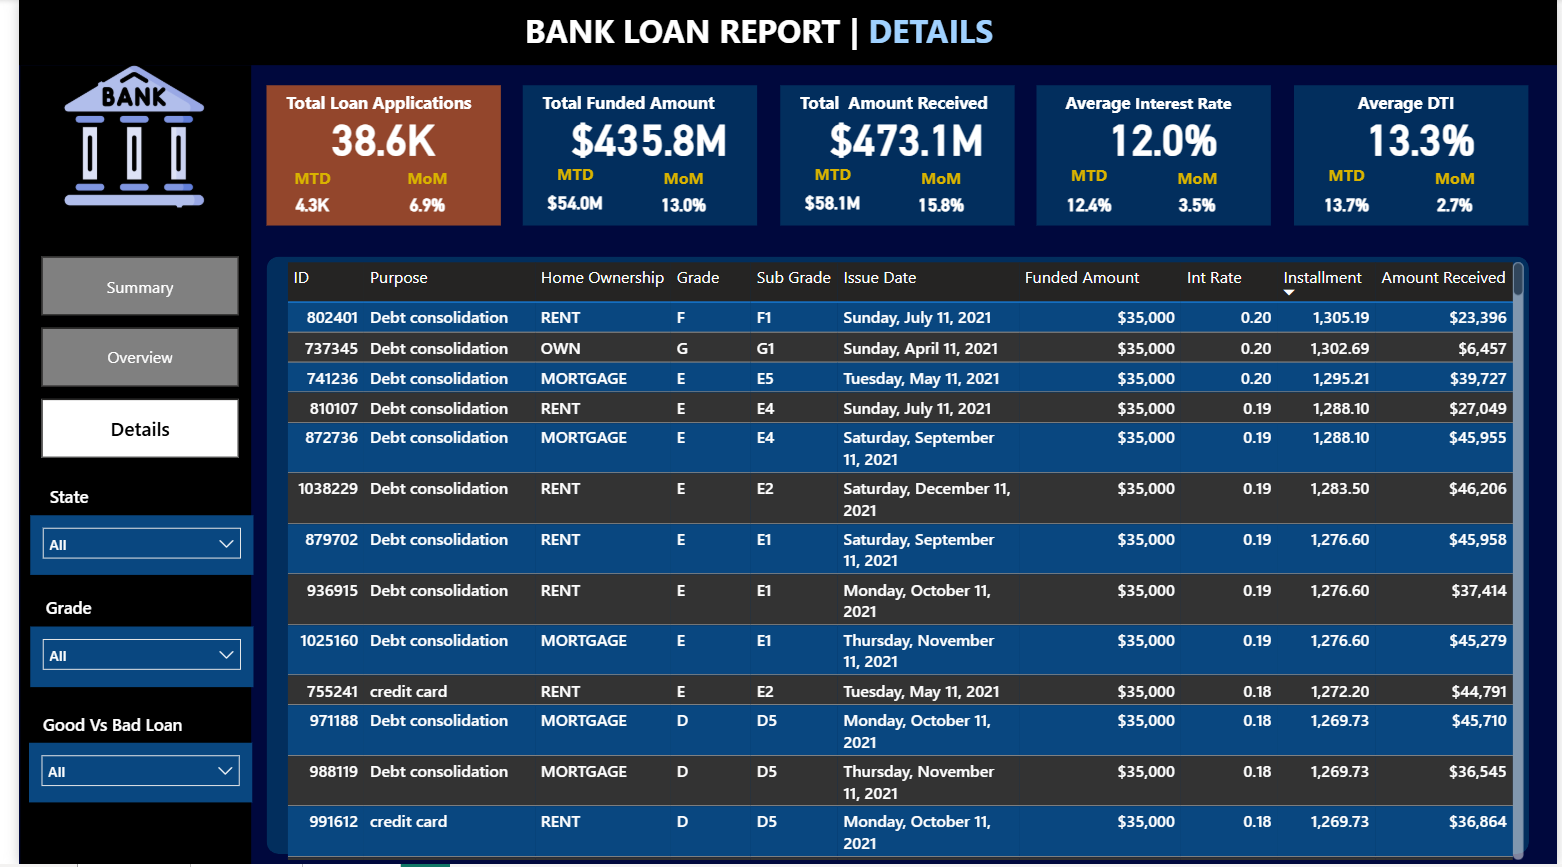

The page's visual inventory and layout, read from the dashboard file:
{"tool":"powerbi","page":{"name":"Details","canvas":[1280,720],"ordinal":2},"visuals":[{"type":"shape","box":[205.8,71.4,194.9,116.6],"z":0,"group":"g1"},{"type":"shape","box":[419.2,71.4,194.9,116.6],"z":0,"group":"g2"},{"type":"shape","box":[632.6,71.4,194.9,116.6],"z":0,"group":"g3"},{"type":"shape","box":[846,71.9,194.9,116.6],"z":0,"group":"g4"},{"type":"shape","box":[1060.1,71.9,194.9,116.6],"z":0,"group":"g5"},{"type":"shape","box":[205.8,214.1,1049.7,496.7],"z":0},{"type":"shape","box":[0,0,1280.3,55],"z":1000},{"type":"textbox","box":[216.8,71.4,223.7,32.9],"z":1000,"group":"g1"},{"type":"textbox","box":[430.2,71.4,223.7,32.9],"z":1000,"group":"g2"},{"type":"textbox","box":[643.6,71.4,223.7,32.9],"z":1000,"group":"g3"},{"type":"textbox","box":[827.4,71.4,223.7,32.9],"z":1000,"group":"g4"},{"type":"textbox","box":[1041.5,71.4,223.7,32.9],"z":1000,"group":"g5"},{"type":"shape","box":[1.4,54.9,192.1,665.5],"z":2000},{"type":"card","fields":{"Values":["bank_loan_data.Total Funded Amount"]},"box":[450.1,77.3,148.2,72.7],"z":2000,"group":"g2"},{"type":"card","fields":{"Values":["bank_loan_data.Total Amount Received"]},"box":[663.5,77.3,148.2,72.7],"z":2000,"group":"g3"},{"type":"card","fields":{"Values":["bank_loan_data.Average Interest Rate"]},"box":[876.9,77.8,148.2,72.7],"z":2000,"group":"g4"},{"type":"card","fields":{"Values":["bank_loan_data.Avg DTI"]},"box":[1091,77.8,148.2,72.7],"z":2000,"group":"g5"},{"type":"card","fields":{"Values":["bank_loan_data.Total Loan Applications"]},"box":[238.7,78.3,127.6,71.4],"z":2000,"group":"g1"},{"type":"textbox","box":[415.8,2.7,447.3,52.1],"z":3000},{"type":"card","title":"MTD","fields":{"Values":["bank_loan_data.MTD Funded Amount"]},"box":[435,136.3,56.3,52.1],"z":3000,"group":"g2"},{"type":"card","title":"MTD","fields":{"Values":["bank_loan_data.MTD Total Amount Received"]},"box":[648.4,136.3,56.3,52.1],"z":3000,"group":"g3"},{"type":"card","title":"MTD","fields":{"Values":["bank_loan_data.MTD AVG Interest Rate"]},"box":[861.8,136.8,56.3,52.1],"z":3000,"group":"g4"},{"type":"card","title":"MTD","fields":{"Values":["bank_loan_data.MTD AVG DTI"]},"box":[1075.9,136.8,56.3,52.1],"z":3000,"group":"g5"},{"type":"card","title":"MTD","fields":{"Values":["bank_loan_data.MTD Loan Applications"]},"box":[216.8,138.6,53.5,49.4],"z":3000,"group":"g1"},{"type":"group","id":"g1","title":"Group 1","box":[205.8,71.4,234.6,116.6],"z":4000},{"type":"card","title":"MoM","fields":{"Values":["bank_loan_data.MoM Loan Appliications"]},"box":[312.8,138.6,53.5,49.4],"z":4000,"group":"g1"},{"type":"card","title":"MoM","fields":{"Values":["bank_loan_data.MoM Total Funded Amount"]},"box":[526.2,138.6,53.5,49.4],"z":4000,"group":"g2"},{"type":"card","title":"MoM","fields":{"Values":["bank_loan_data.MoM Total Amount Received"]},"box":[739.6,138.6,53.5,49.4],"z":4000,"group":"g3"},{"type":"card","title":"MoM","fields":{"Values":["bank_loan_data.MoM Avg Interest Rate"]},"box":[953,139.1,53.5,49.4],"z":4000,"group":"g4"},{"type":"card","title":"MoM","fields":{"Values":["bank_loan_data.MoM Avg DTI"]},"box":[1167.1,139.1,53.5,49.4],"z":4000,"group":"g5"},{"type":"group","id":"g2","title":"Group 1","box":[419.2,71.4,234.6,116.6],"z":5000},{"type":"group","id":"g3","title":"Group 1","box":[632.6,71.4,234.6,116.6],"z":6000},{"type":"group","id":"g4","title":"Group 1","box":[827.4,71.4,223.7,116.6],"z":7000},{"type":"group","id":"g5","title":"Group 1","box":[1041.5,71.4,223.7,118],"z":8000},{"type":"slicer","fields":{"Values":["bank_loan_data.address_state"]},"box":[9.6,429.5,185.2,49.4],"z":9000},{"type":"textbox","box":[15.1,399.3,52.1,30.2],"z":10000},{"type":"slicer","fields":{"Values":["bank_loan_data.grade"]},"box":[9.6,521.4,185.2,50.8],"z":11000},{"type":"slicer","fields":{"Values":["bank_loan_data.Good vs Bad Loan"]},"box":[8.2,618.9,185.2,49.4],"z":12000},{"type":"textbox","box":[8.2,491.3,65.9,30.2],"z":13000},{"type":"textbox","box":[1.4,588.7,153.7,30.2],"z":14000},{"type":"tableEx","fields":{"Values":["bank_loan_data.id","bank_loan_data.purpose","bank_loan_data.home_ownership","bank_loan_data.grade","bank_loan_data.sub_grade","bank_loan_data.issue_date","bank_loan_data.Total Funded Amount","Sum(bank_loan_data.int_rate)","Sum(bank_loan_data.installment)","bank_loan_data.Total Amount Received"]},"box":[216.8,214.1,1038.8,506.3],"z":17001},{"type":"pageNavigator","box":[19.2,214.1,164.7,168.8],"z":17002},{"type":"image","box":[27.4,52.1,137.2,123.5],"z":17003}]}

Visuals, with their boxes in screenshot pixels (x1, y1, x2, y2), scaled from the page's 1280x720 canvas onto the 1562x867 screenshot:
shape: [251, 86, 489, 226]
shape: [512, 86, 749, 226]
shape: [772, 86, 1010, 226]
shape: [1032, 87, 1270, 227]
shape: [1294, 87, 1531, 227]
shape: [251, 258, 1532, 856]
shape: [0, 0, 1561, 66]
textbox: [265, 86, 538, 126]
textbox: [525, 86, 798, 126]
textbox: [785, 86, 1058, 126]
textbox: [1010, 86, 1283, 126]
textbox: [1271, 86, 1544, 126]
shape: [2, 66, 236, 866]
card - bank_loan_data.Total Funded Amount: [549, 93, 730, 181]
card - bank_loan_data.Total Amount Received: [810, 93, 991, 181]
card - bank_loan_data.Average Interest Rate: [1070, 94, 1251, 181]
card - bank_loan_data.Avg DTI: [1331, 94, 1512, 181]
card - bank_loan_data.Total Loan Applications: [291, 94, 447, 180]
textbox: [507, 3, 1053, 66]
"MTD" card: [531, 164, 600, 227]
"MTD" card: [791, 164, 860, 227]
"MTD" card: [1052, 165, 1120, 227]
"MTD" card: [1313, 165, 1382, 227]
"MTD" card: [265, 167, 330, 226]
"Group 1" group: [251, 86, 537, 226]
"MoM" card: [382, 167, 447, 226]
"MoM" card: [642, 167, 707, 226]
"MoM" card: [903, 167, 968, 226]
"MoM" card: [1163, 167, 1228, 227]
"MoM" card: [1424, 167, 1490, 227]
"Group 1" group: [512, 86, 798, 226]
"Group 1" group: [772, 86, 1058, 226]
"Group 1" group: [1010, 86, 1283, 226]
"Group 1" group: [1271, 86, 1544, 228]
slicer - bank_loan_data.address_state: [12, 517, 238, 577]
textbox: [18, 481, 82, 517]
slicer - bank_loan_data.grade: [12, 628, 238, 689]
slicer - bank_loan_data.Good vs Bad Loan: [10, 745, 236, 805]
textbox: [10, 592, 90, 628]
textbox: [2, 709, 189, 745]
tableEx - bank_loan_data.id x bank_loan_data.purpose: [265, 258, 1532, 866]
pageNavigator: [23, 258, 224, 461]
image: [33, 63, 201, 211]
